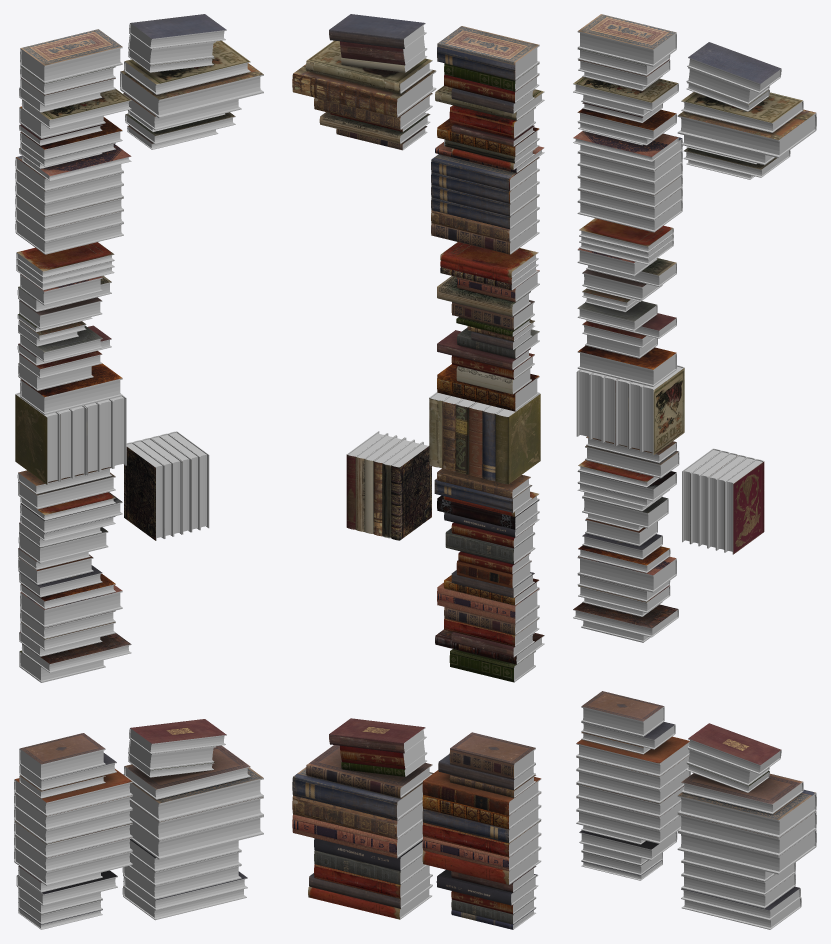
The model's file is books.fbx.
3 views of the same model, side by side, from view 1: azimuth 30°, elevation 25°; view 2: azimuth 150°, elevation 25°; view 3: azimuth 330°, elevation 25° (orthographic). The views are drawn at different scales.
Parts seen in each view (by area): view 1: Cube_133, Cube_043, Cube_042, Cube_044, Cube_048, Cube_047, Cube_038, Cube_046, Cube_045; view 2: Cube_133, Cube_048, Cube_043, Cube_038, Cube_047, Cube_044, Cube_042, Cube_045, Cube_046; view 3: Cube_133, Cube_043, Cube_042, Cube_048, Cube_044, Cube_047, Cube_038, Cube_046, Cube_045.
Part boxes in pixels (left/top/right/bottom): Cube_133: left=14, top=23, right=263, bottom=929; Cube_043: left=16, top=29, right=130, bottom=229; Cube_042: left=121, top=14, right=263, bottom=143; Cube_044: left=17, top=242, right=122, bottom=396; Cube_048: left=123, top=719, right=263, bottom=899; Cube_047: left=18, top=467, right=130, bottom=663; Cube_038: left=15, top=733, right=132, bottom=924; Cube_046: left=124, top=438, right=191, bottom=540; Cube_045: left=15, top=394, right=87, bottom=484; Cube_133: left=347, top=23, right=544, bottom=929; Cube_048: left=292, top=718, right=433, bottom=919; Cube_043: left=431, top=26, right=544, bottom=254; Cube_038: left=422, top=732, right=540, bottom=929; Cube_047: left=434, top=468, right=544, bottom=682; Cube_044: left=437, top=242, right=539, bottom=411; Cube_042: left=292, top=14, right=435, bottom=150; Cube_045: left=429, top=394, right=540, bottom=484; Cube_046: left=346, top=438, right=431, bottom=540; Cube_133: left=573, top=31, right=816, bottom=929; Cube_043: left=573, top=14, right=681, bottom=207; Cube_042: left=678, top=42, right=815, bottom=169; Cube_048: left=678, top=723, right=815, bottom=910; Cube_044: left=578, top=218, right=676, bottom=369; Cube_047: left=573, top=436, right=678, bottom=628; Cube_038: left=576, top=691, right=689, bottom=875; Cube_046: left=690, top=455, right=764, bottom=554; Cube_045: left=615, top=368, right=684, bottom=454.
Size of the model in its own units: 25.1 by 98.69 by 8.03.
